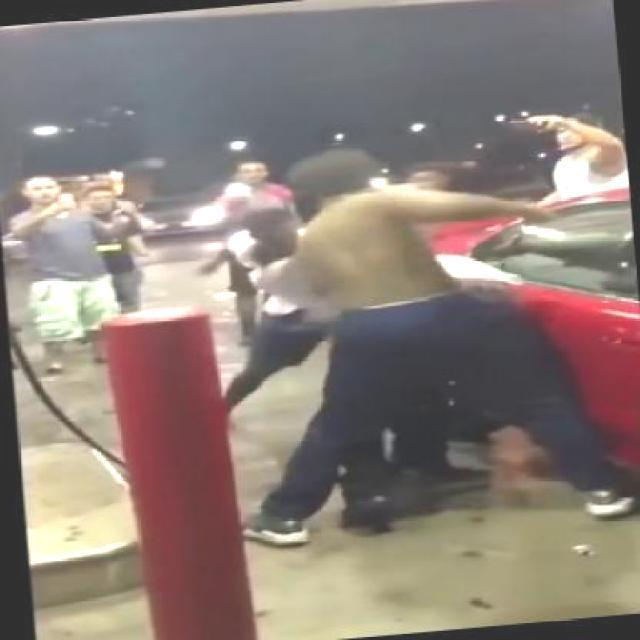fight: (188, 138, 594, 551)
